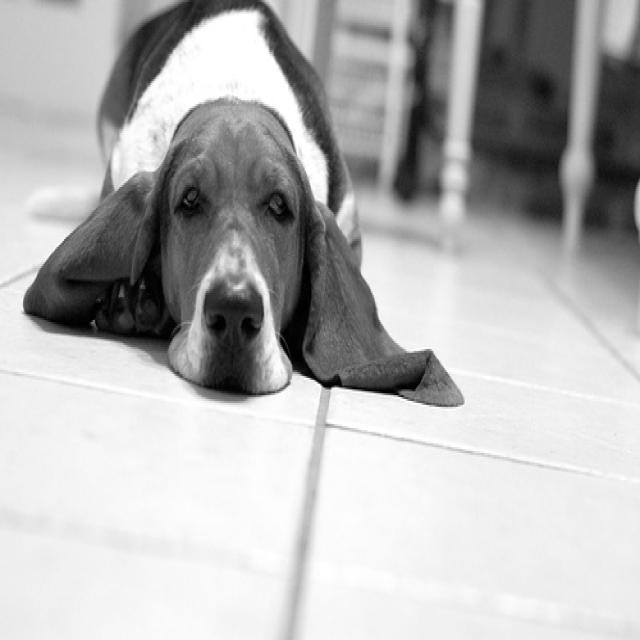dog-basset_hound: (10, 2, 470, 418)
